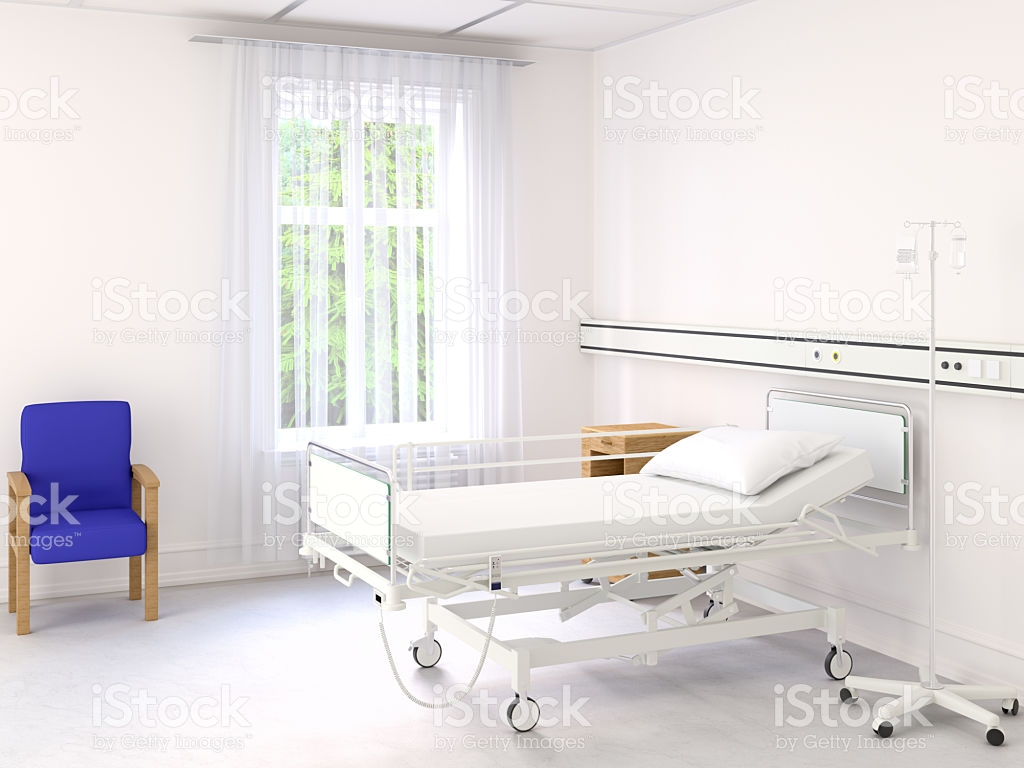hospital bed: (289, 401, 916, 591)
